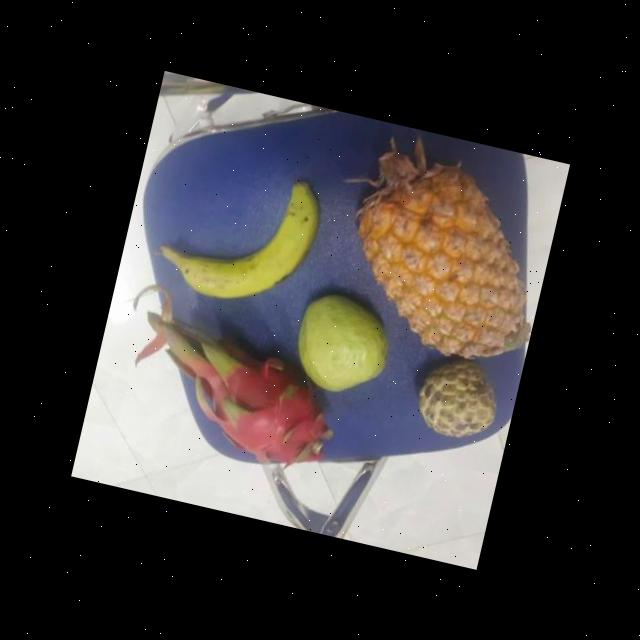Sakya fruit: (406, 350, 506, 444)
banana: (158, 163, 322, 315)
guava: (285, 288, 398, 401)
pineapple: (328, 150, 547, 362)
pitaya: (192, 341, 340, 477)
